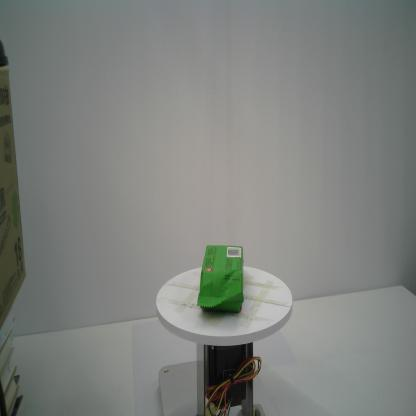Dessert: (196, 245, 244, 313)
